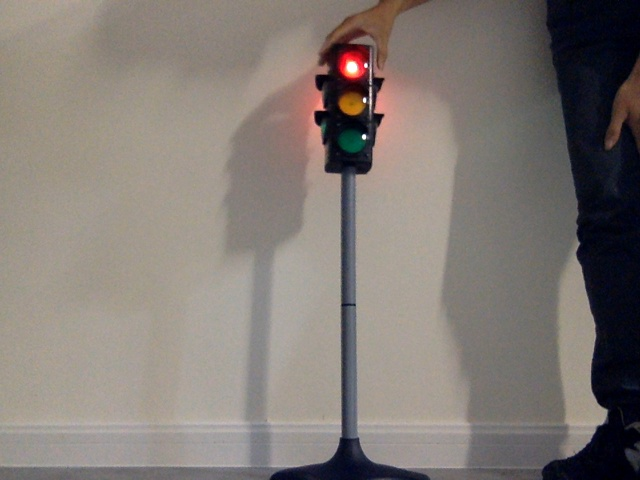red: (328, 49, 367, 161)
